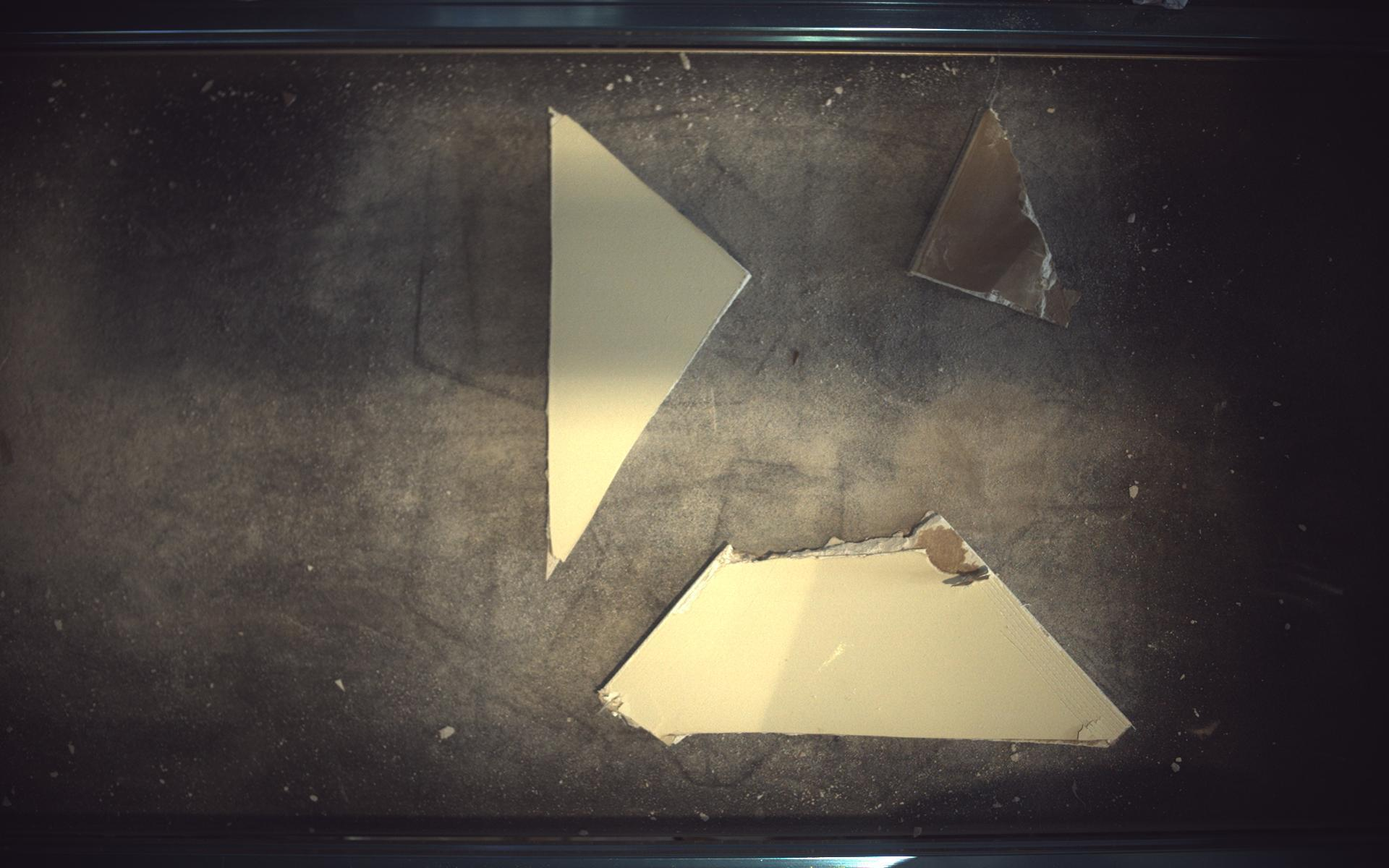gypsum_board: (600, 513, 1133, 747), (547, 109, 751, 576), (912, 105, 1083, 326)
